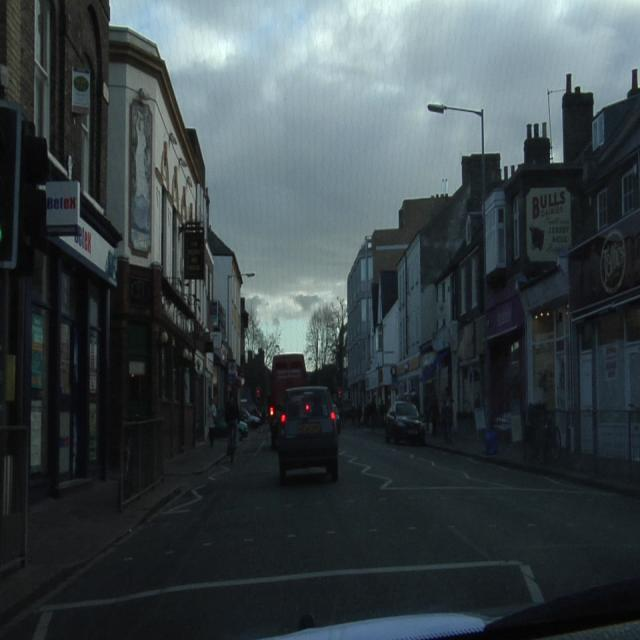Building: (0, 7, 247, 518), (344, 72, 639, 452)
Car: (276, 387, 338, 483), (386, 401, 424, 443), (238, 419, 251, 436)
Road: (2, 427, 639, 632)
Tree: (246, 307, 281, 368), (305, 303, 336, 371)
